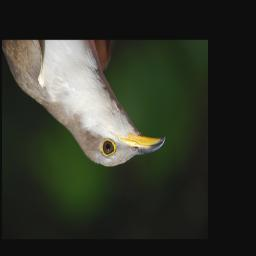Cuckoo: (2, 41, 165, 168)
